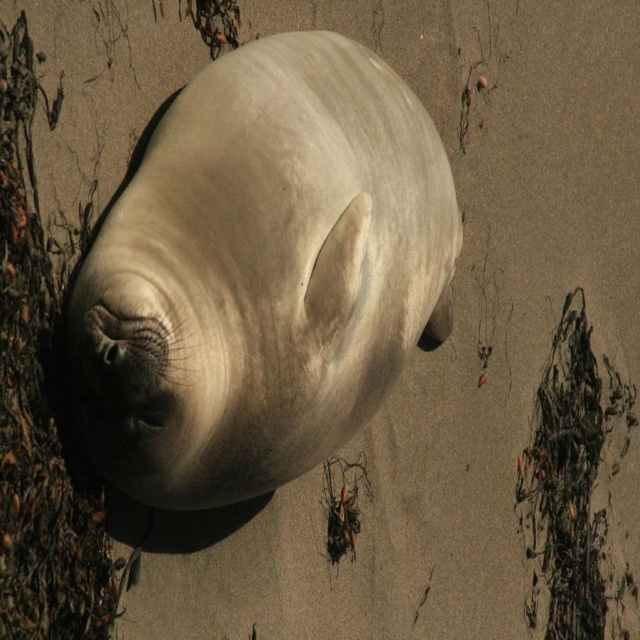Harbor seal: (43, 39, 502, 573)
